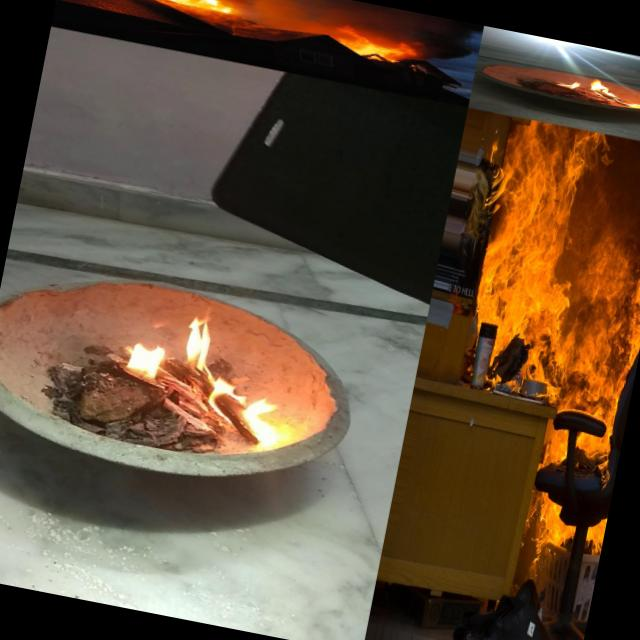fire: (434, 115, 640, 528), (116, 296, 288, 446), (322, 20, 428, 70), (111, 0, 238, 14), (587, 76, 640, 108), (556, 78, 583, 92)
